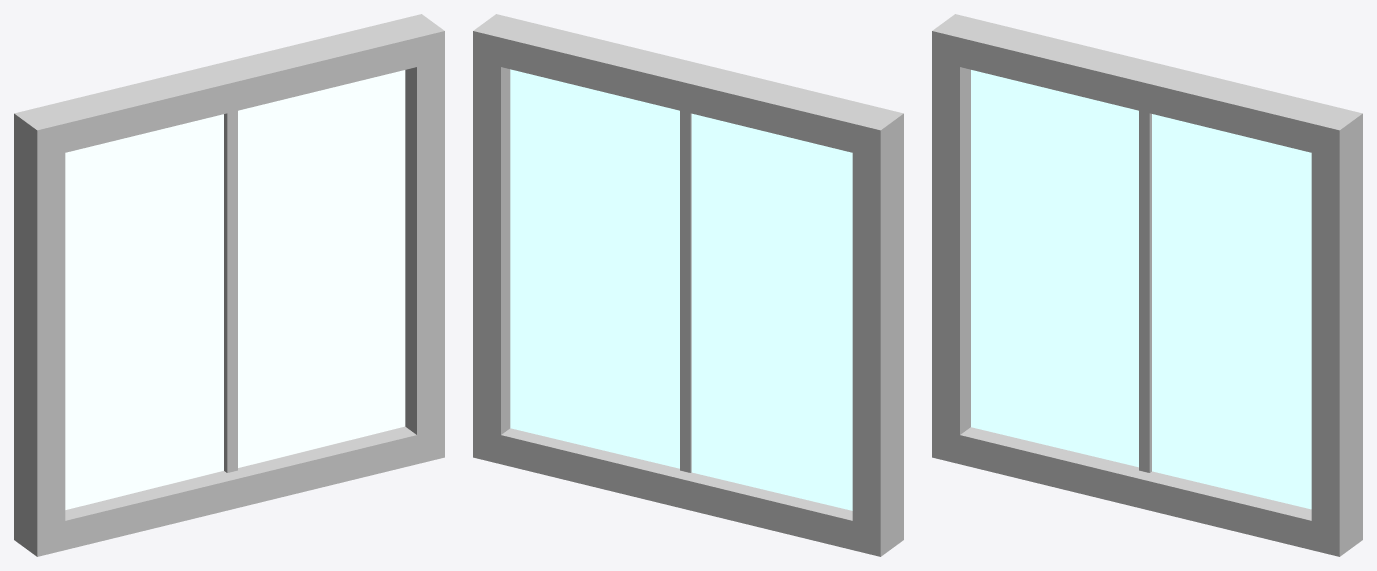
The model's file is window6.glb.
3 renders of one model, left to right at view 1: azimuth 30°, elevation 25°; view 2: azimuth 150°, elevation 25°; view 3: azimuth 330°, elevation 25°, orthographic.
Parts seen in each view (by area): view 1: glassMesh; view 2: glassMesh; view 3: glassMesh.
Part boxes in pixels (left/top/right/bottom): glassMesh: left=14, top=14, right=444, bottom=556; glassMesh: left=473, top=14, right=903, bottom=556; glassMesh: left=932, top=14, right=1362, bottom=556.
Size of the model in its own units: 0.6061 by 0.6061 by 0.0597.
